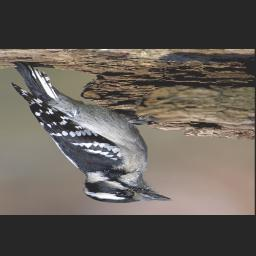Woodpecker: (10, 60, 173, 206)
